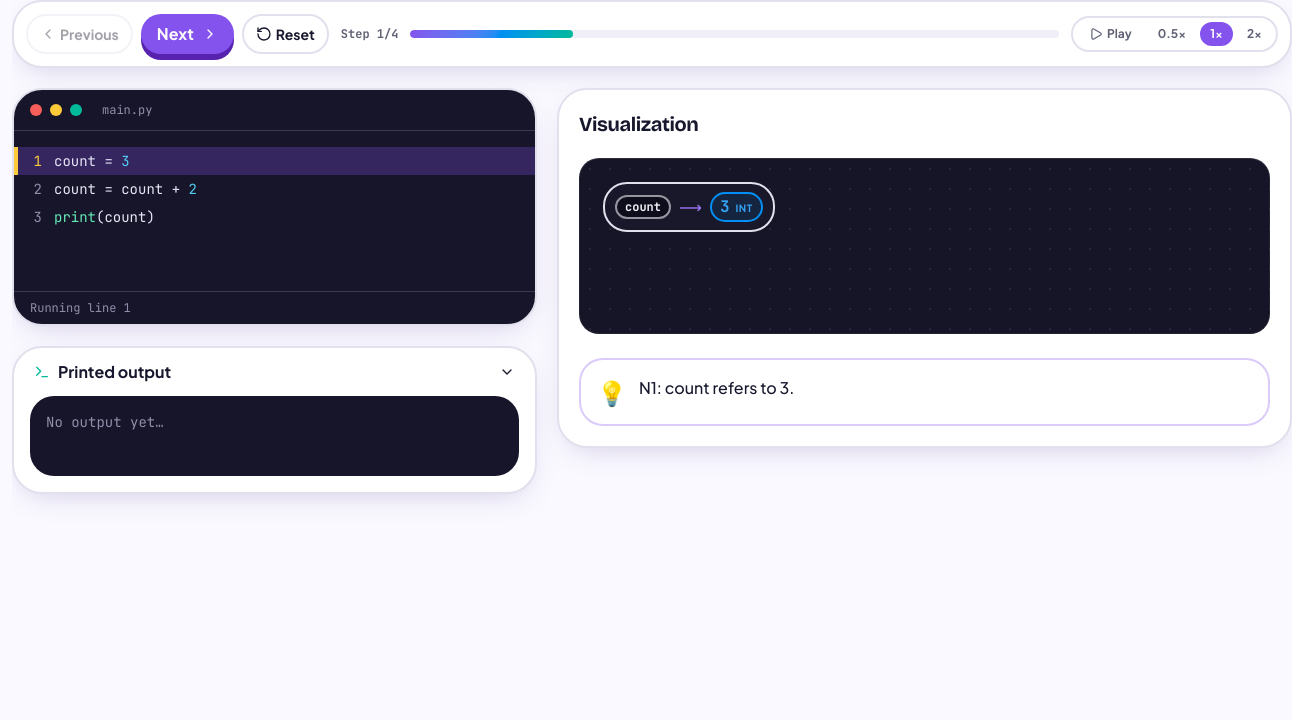
Test: execution events › shows calculation and assignment as two events on the same line
Click the button named "Next step": click(187, 34) [141,14,234,54]
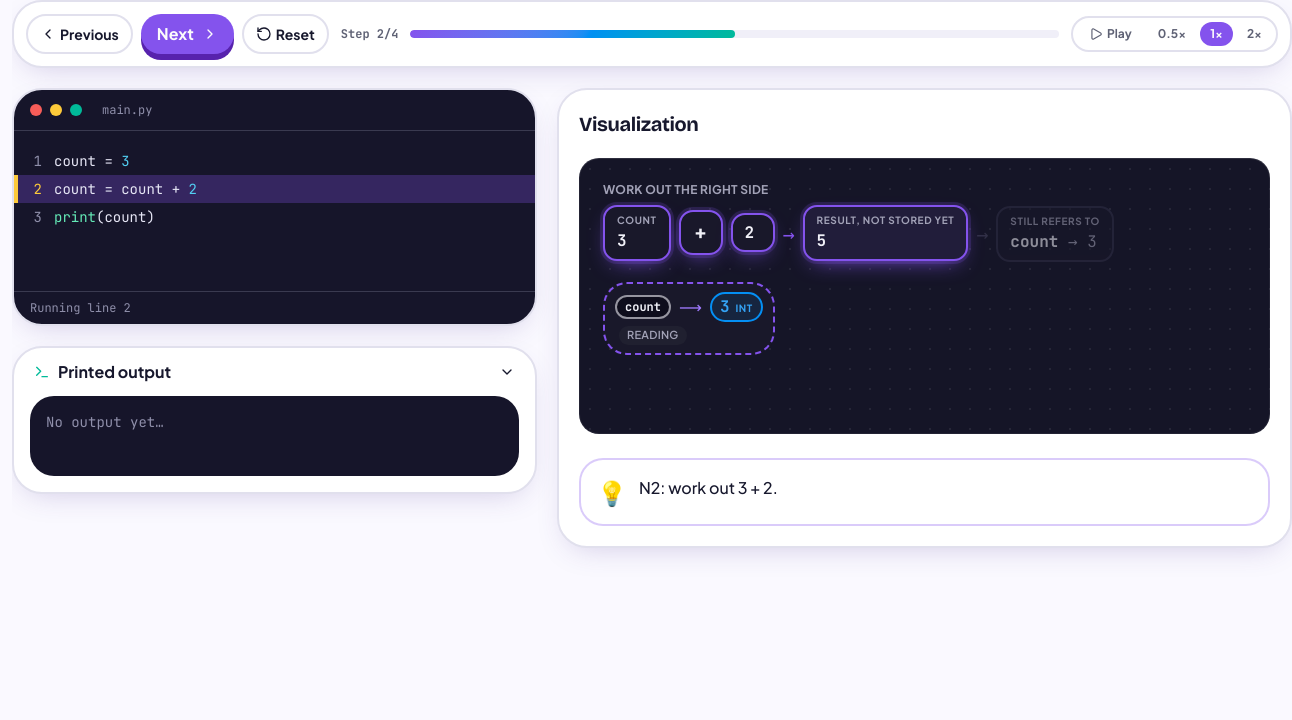
Expected: the text "Work out the right side" is shown, [603,182,769,197]
Expected: the text "result, not stored yet" is shown, [817,213,954,228]
Click the button named "Next step": click(187, 34) [141,14,234,54]
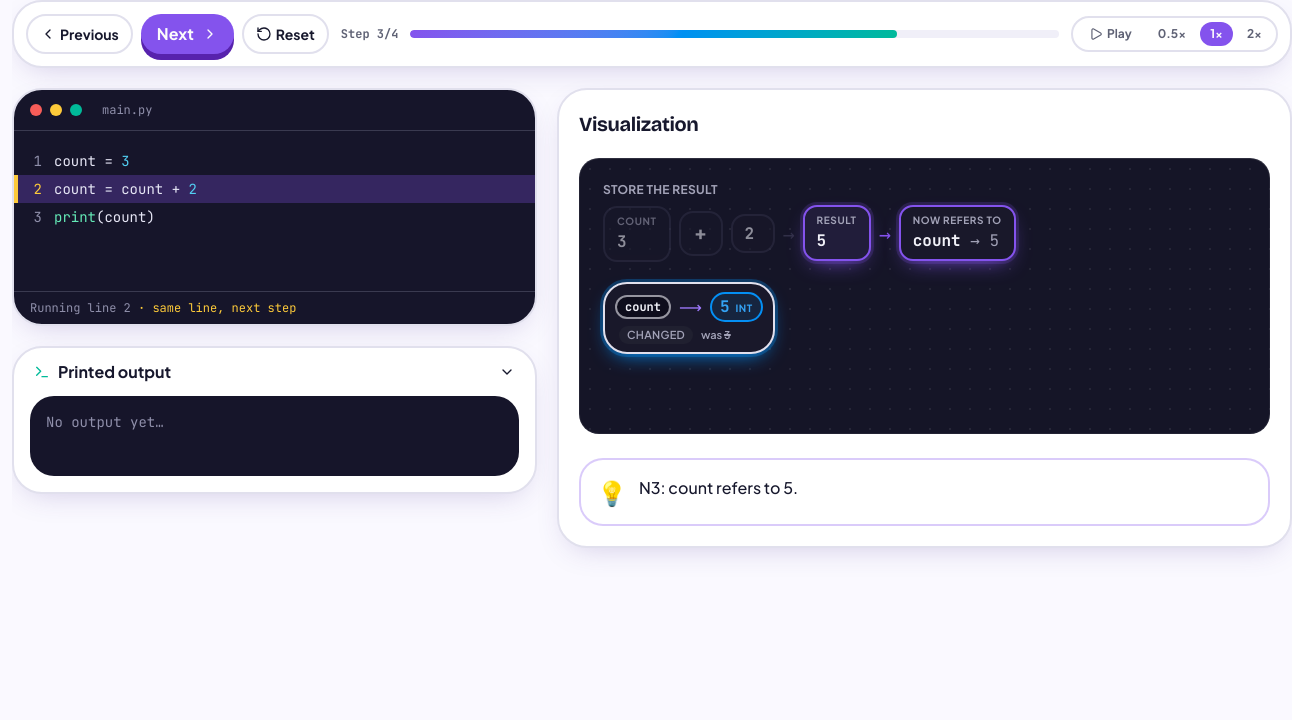
Expected: the text "Store the result" is shown, [603,182,718,197]
Expected: the text "· same line, next step" is shown, [131,300,296,316]
